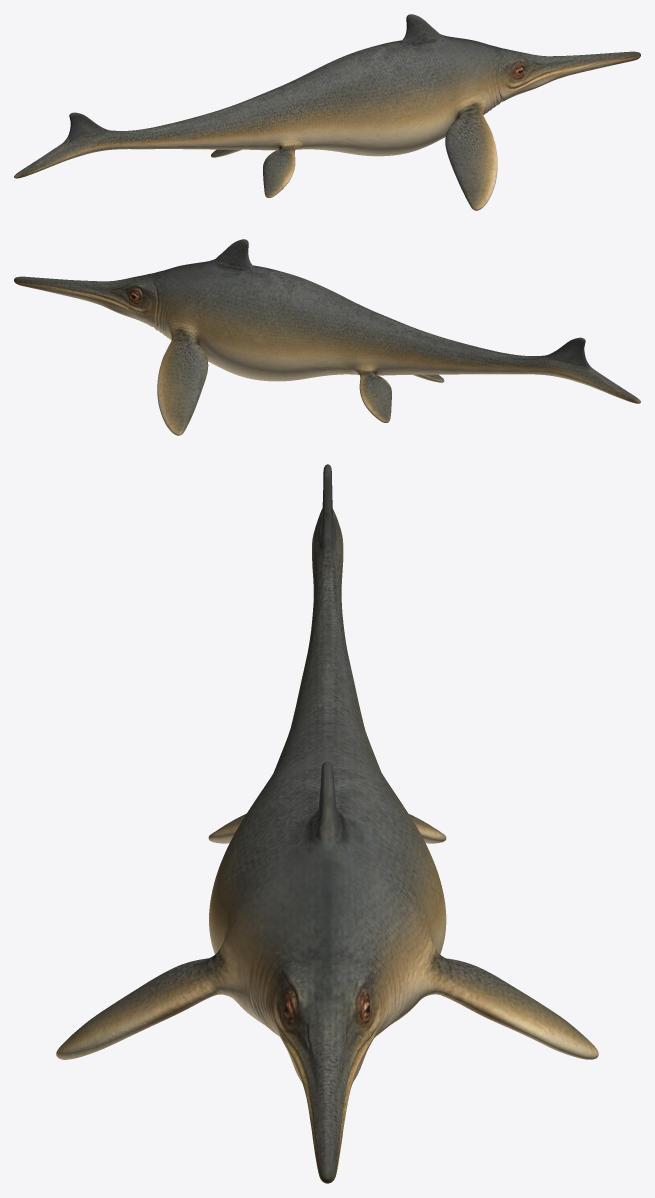
3 renders of one model, top to bottom at view 1: azimuth 30°, elevation 25°; view 2: azimuth 150°, elevation 25°; view 3: azimuth 270°, elevation 25°, orthographic. The views are drawn at different scales.
Parts seen in each view (by area): view 1: Authored orientation; view 2: Authored orientation; view 3: Authored orientation.
Part boxes in pixels (x1=…): Authored orientation: x1=14, y1=14, x2=640, y2=210; Authored orientation: x1=14, y1=239, x2=640, y2=435; Authored orientation: x1=56, y1=464, x2=598, y2=1183.
Size of the model in its own units: 0.985 by 0.2211 by 0.3695.
Materials: 1 (1 with a texture image).
